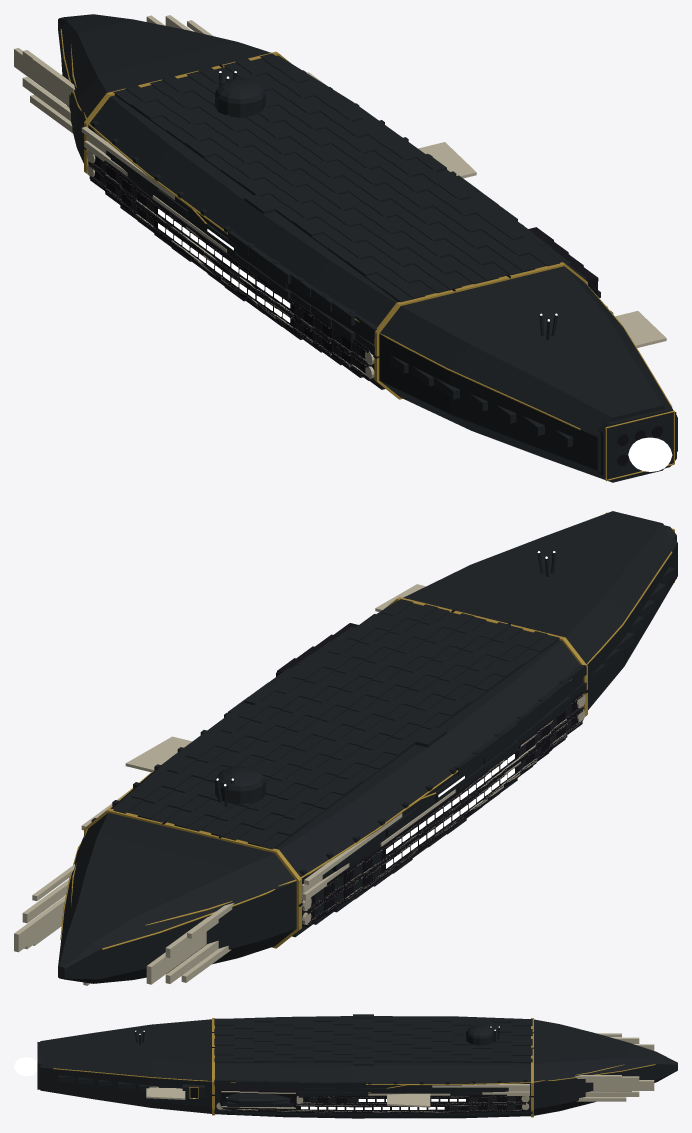
The picture shows the model from 3 angles, top to bottom: view 1: azimuth 30°, elevation 25°; view 2: azimuth 150°, elevation 25°; view 3: azimuth 270°, elevation 25°; orthographic projection. The views are drawn at different scales.
Visible parts, largest first — view 1: RIMWARD_HULL, RIMWARD_EMISSIVE, RIMWARD_ENGINE_GLOW; view 2: RIMWARD_HULL, RIMWARD_EMISSIVE; view 3: RIMWARD_HULL, RIMWARD_EMISSIVE, RIMWARD_ENGINE_GLOW.
Part boxes in pixels (box(x1,y1,x2,y2)): RIMWARD_HULL: box(14, 14, 677, 482); RIMWARD_EMISSIVE: box(158, 71, 557, 322); RIMWARD_ENGINE_GLOW: box(628, 437, 672, 471); RIMWARD_HULL: box(14, 511, 677, 985); RIMWARD_EMISSIVE: box(216, 551, 555, 868); RIMWARD_HULL: box(37, 1014, 677, 1118); RIMWARD_EMISSIVE: box(135, 1026, 499, 1109); RIMWARD_ENGINE_GLOW: box(14, 1057, 37, 1075).
Bounding box in the file's own units: 8.14 × 3.91 × 30.66.
